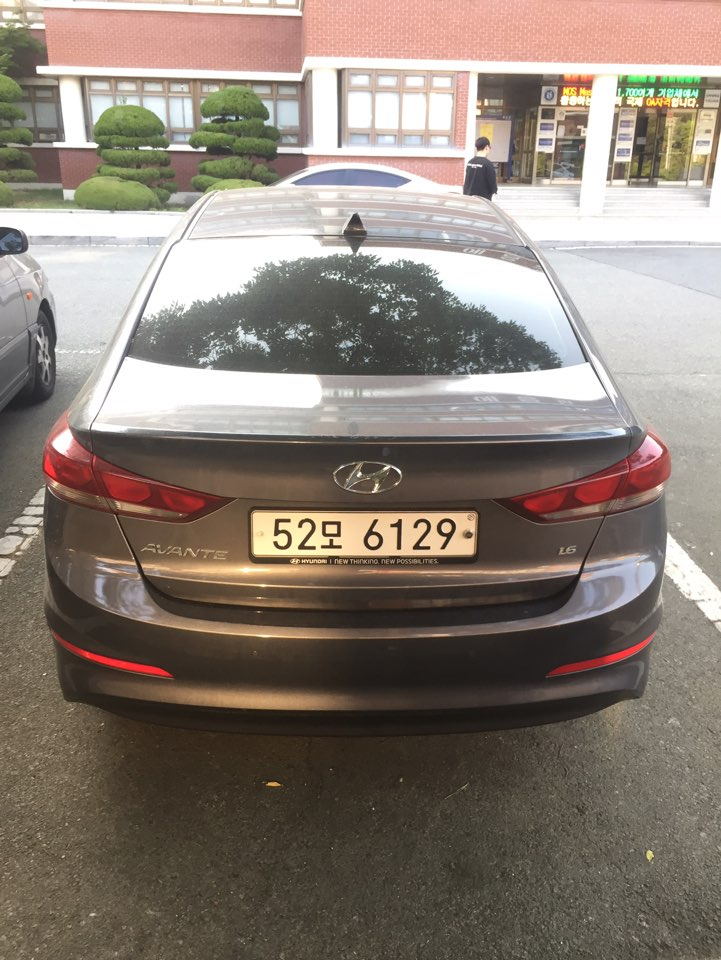car: (0, 227, 58, 415)
person: (462, 136, 497, 200)
